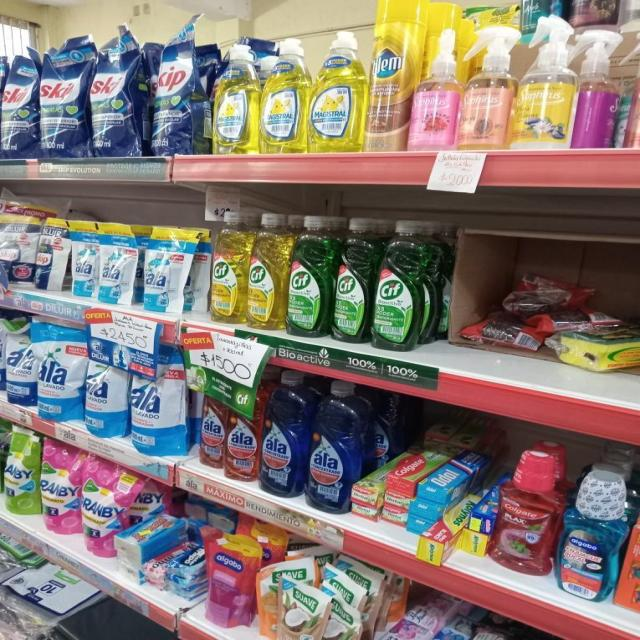ala_conc_azul: (308, 378, 360, 515), (260, 369, 306, 500)
ala_conc_rojo: (226, 374, 259, 484), (198, 397, 226, 473)
cif_conc_bot_amarilla: (248, 211, 287, 331), (211, 209, 247, 324)
cif_conc_botella_verde: (373, 218, 433, 350), (288, 214, 331, 338), (332, 216, 372, 343)
magistral_con_amarillo: (310, 30, 364, 153), (261, 37, 309, 154), (212, 42, 260, 155)
